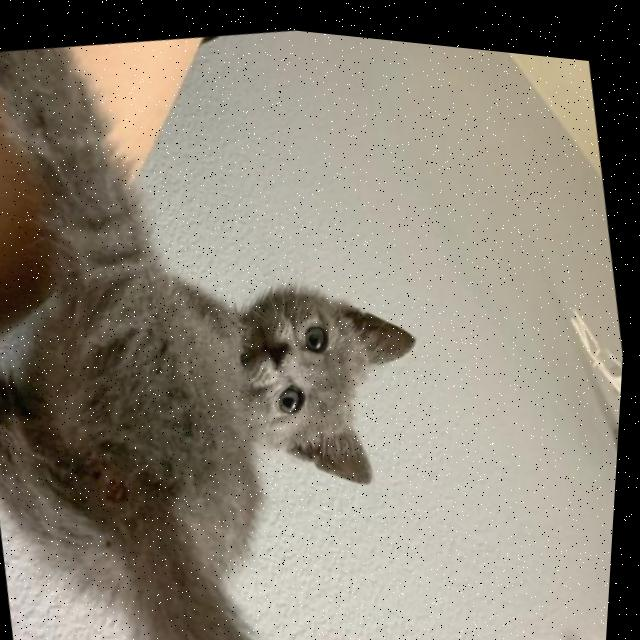Cats: (0, 74, 528, 640)
